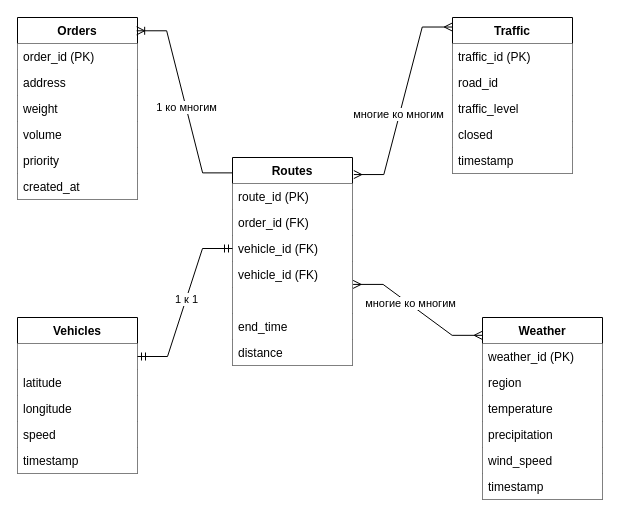
The diagram is 620 pixels wide and 520 high, and some of its shapes have lost their labels. Each missing label, with the centre of its shape:
start_time: [292,300]
vehicle_id (PK): [77,356]
